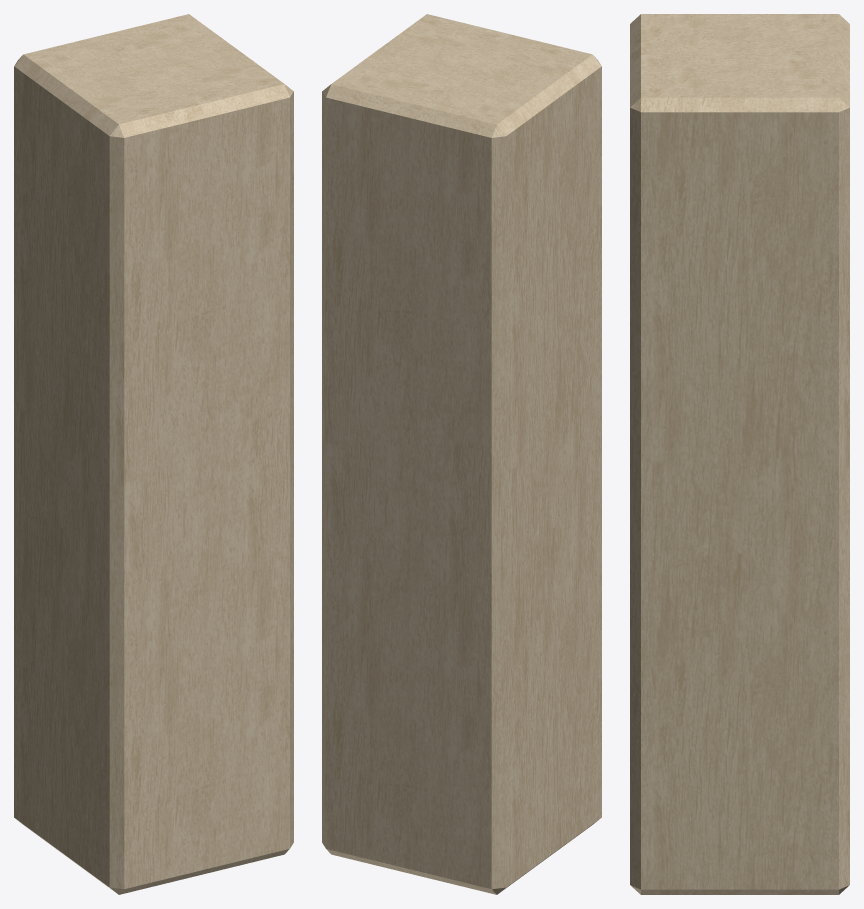
File: column.glb
3 views of the same model, side by side, from view 1: azimuth 30°, elevation 25°; view 2: azimuth 150°, elevation 25°; view 3: azimuth 270°, elevation 25° (orthographic). The views are drawn at different scales.
Visible parts, largest first — view 1: column; view 2: column; view 3: column.
Part boxes in pixels (bbox=[...]): column: bbox=[14, 14, 293, 894]; column: bbox=[322, 14, 601, 894]; column: bbox=[630, 14, 849, 894].
Size of the model in its own units: 2 by 8 by 2.
1 material, 1 textured.
